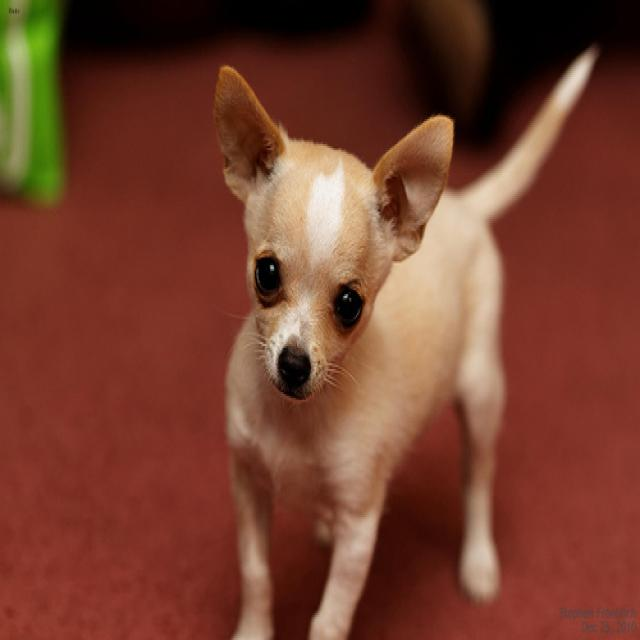dog-chihuahua: (209, 33, 603, 636)
